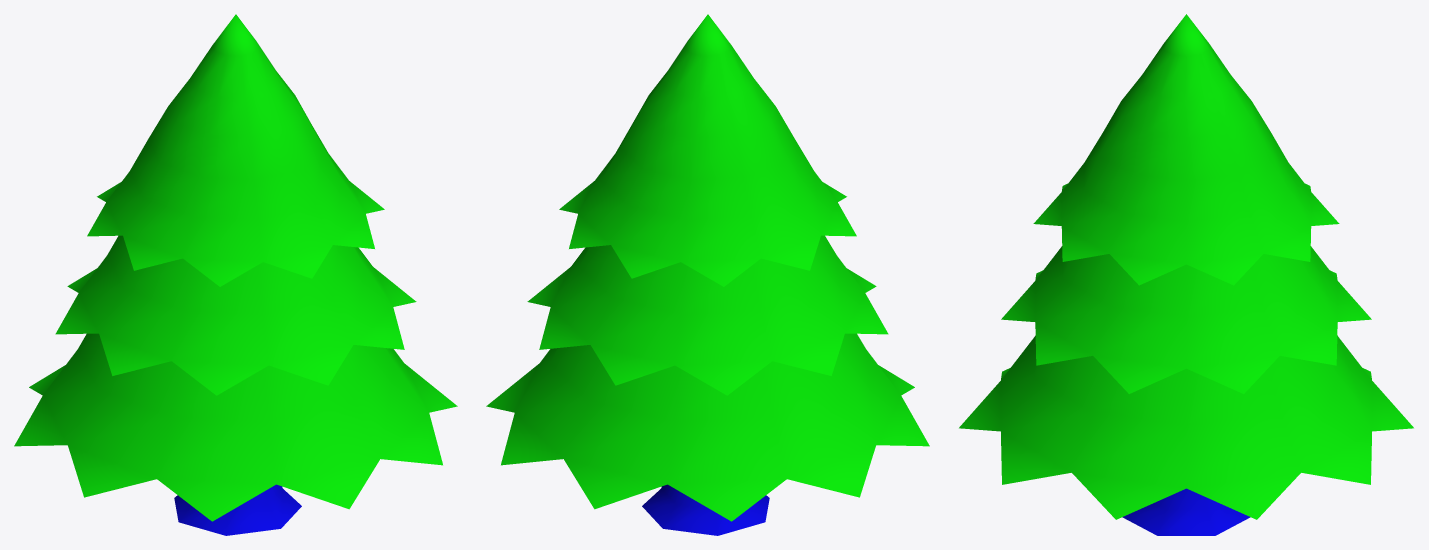
The model's file is Tree.fbx.
3 renders of one model, left to right at view 1: azimuth 30°, elevation 25°; view 2: azimuth 150°, elevation 25°; view 3: azimuth 270°, elevation 25°, orthographic.
Parts seen in each view (by area): view 1: Tree; view 2: Tree; view 3: Tree.
Part boxes in pixels (x1,y1,x2,y2): Tree: [14, 14, 457, 535]; Tree: [486, 14, 929, 535]; Tree: [959, 14, 1413, 535].
Size of the model in its own units: 399 by 505 by 420.
